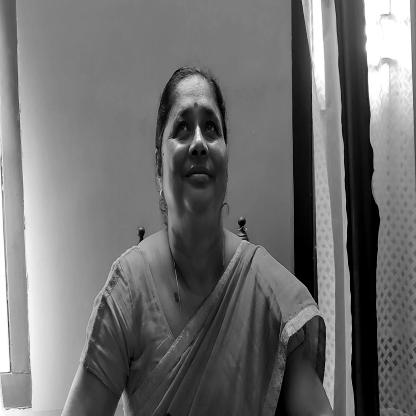Distracted: (162, 70, 233, 235)
